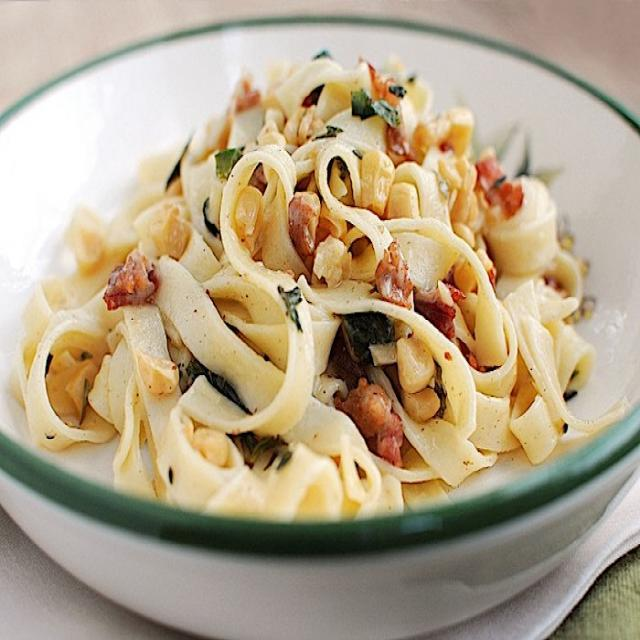Pasta with carbonara sauce: (54, 25, 589, 542)
